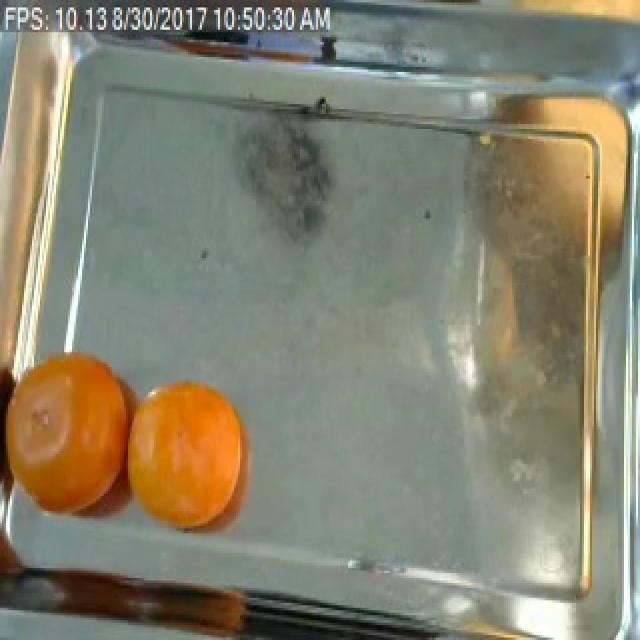Fruit: (0, 332, 162, 554), (106, 362, 268, 566), (446, 109, 600, 318)
